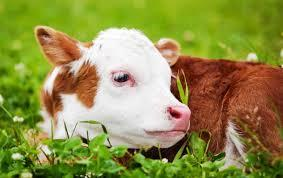cow: (34, 25, 283, 168)
